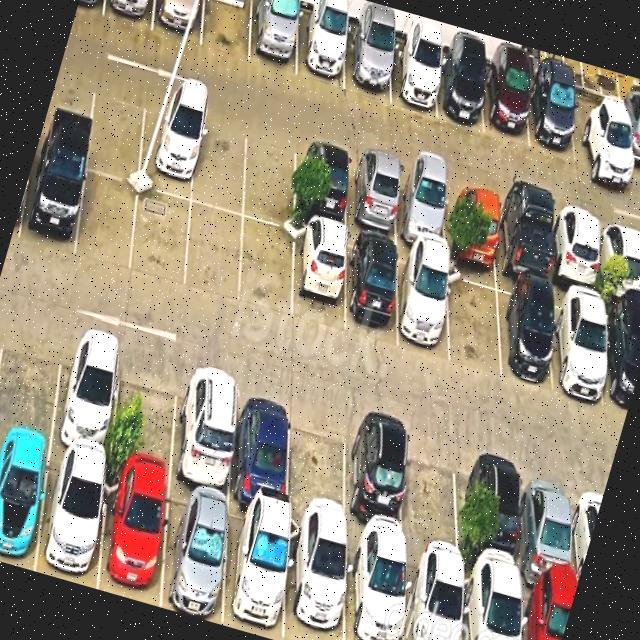empty: (110, 343, 180, 482), (0, 311, 65, 444), (288, 396, 347, 532), (406, 426, 462, 564), (75, 170, 138, 271), (130, 187, 191, 290), (86, 78, 146, 182), (447, 264, 500, 376), (184, 202, 242, 303), (191, 109, 246, 214), (243, 123, 296, 230), (239, 219, 292, 318), (201, 0, 252, 61)
occupied: (35, 448, 107, 589), (50, 325, 122, 463), (160, 483, 228, 625), (99, 466, 167, 607), (171, 361, 238, 498), (222, 501, 288, 640), (229, 378, 292, 512), (347, 411, 408, 548), (284, 518, 345, 640), (18, 150, 86, 257), (522, 457, 574, 593), (471, 443, 523, 579), (0, 435, 50, 571), (138, 93, 200, 200), (552, 287, 606, 403), (292, 219, 346, 331), (497, 277, 552, 386), (346, 537, 404, 640), (397, 248, 449, 361), (344, 233, 397, 343), (405, 550, 462, 640), (295, 137, 349, 228), (497, 192, 549, 285), (348, 151, 398, 240), (448, 178, 497, 268), (397, 163, 446, 251), (570, 89, 620, 175), (603, 300, 640, 415), (464, 566, 520, 640), (552, 205, 599, 293), (296, 9, 347, 89), (529, 74, 575, 161), (484, 62, 529, 146), (436, 52, 483, 132), (249, 0, 298, 76), (390, 39, 436, 117), (599, 217, 640, 304), (344, 26, 390, 101), (521, 580, 575, 640), (152, 0, 204, 44), (612, 100, 640, 181), (103, 0, 154, 30)
